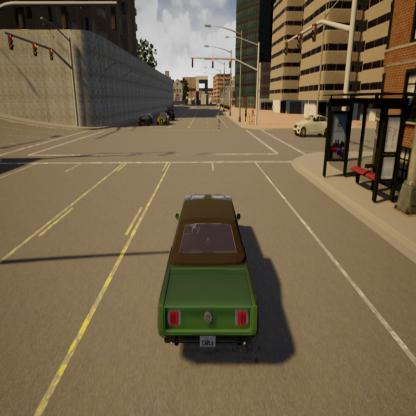Cars: (149, 164, 260, 386), (291, 104, 335, 156), (156, 102, 172, 140), (134, 106, 154, 132), (164, 94, 177, 124)
Pedestrian: (214, 103, 224, 136), (246, 103, 252, 126), (250, 101, 255, 125), (244, 105, 249, 124)
